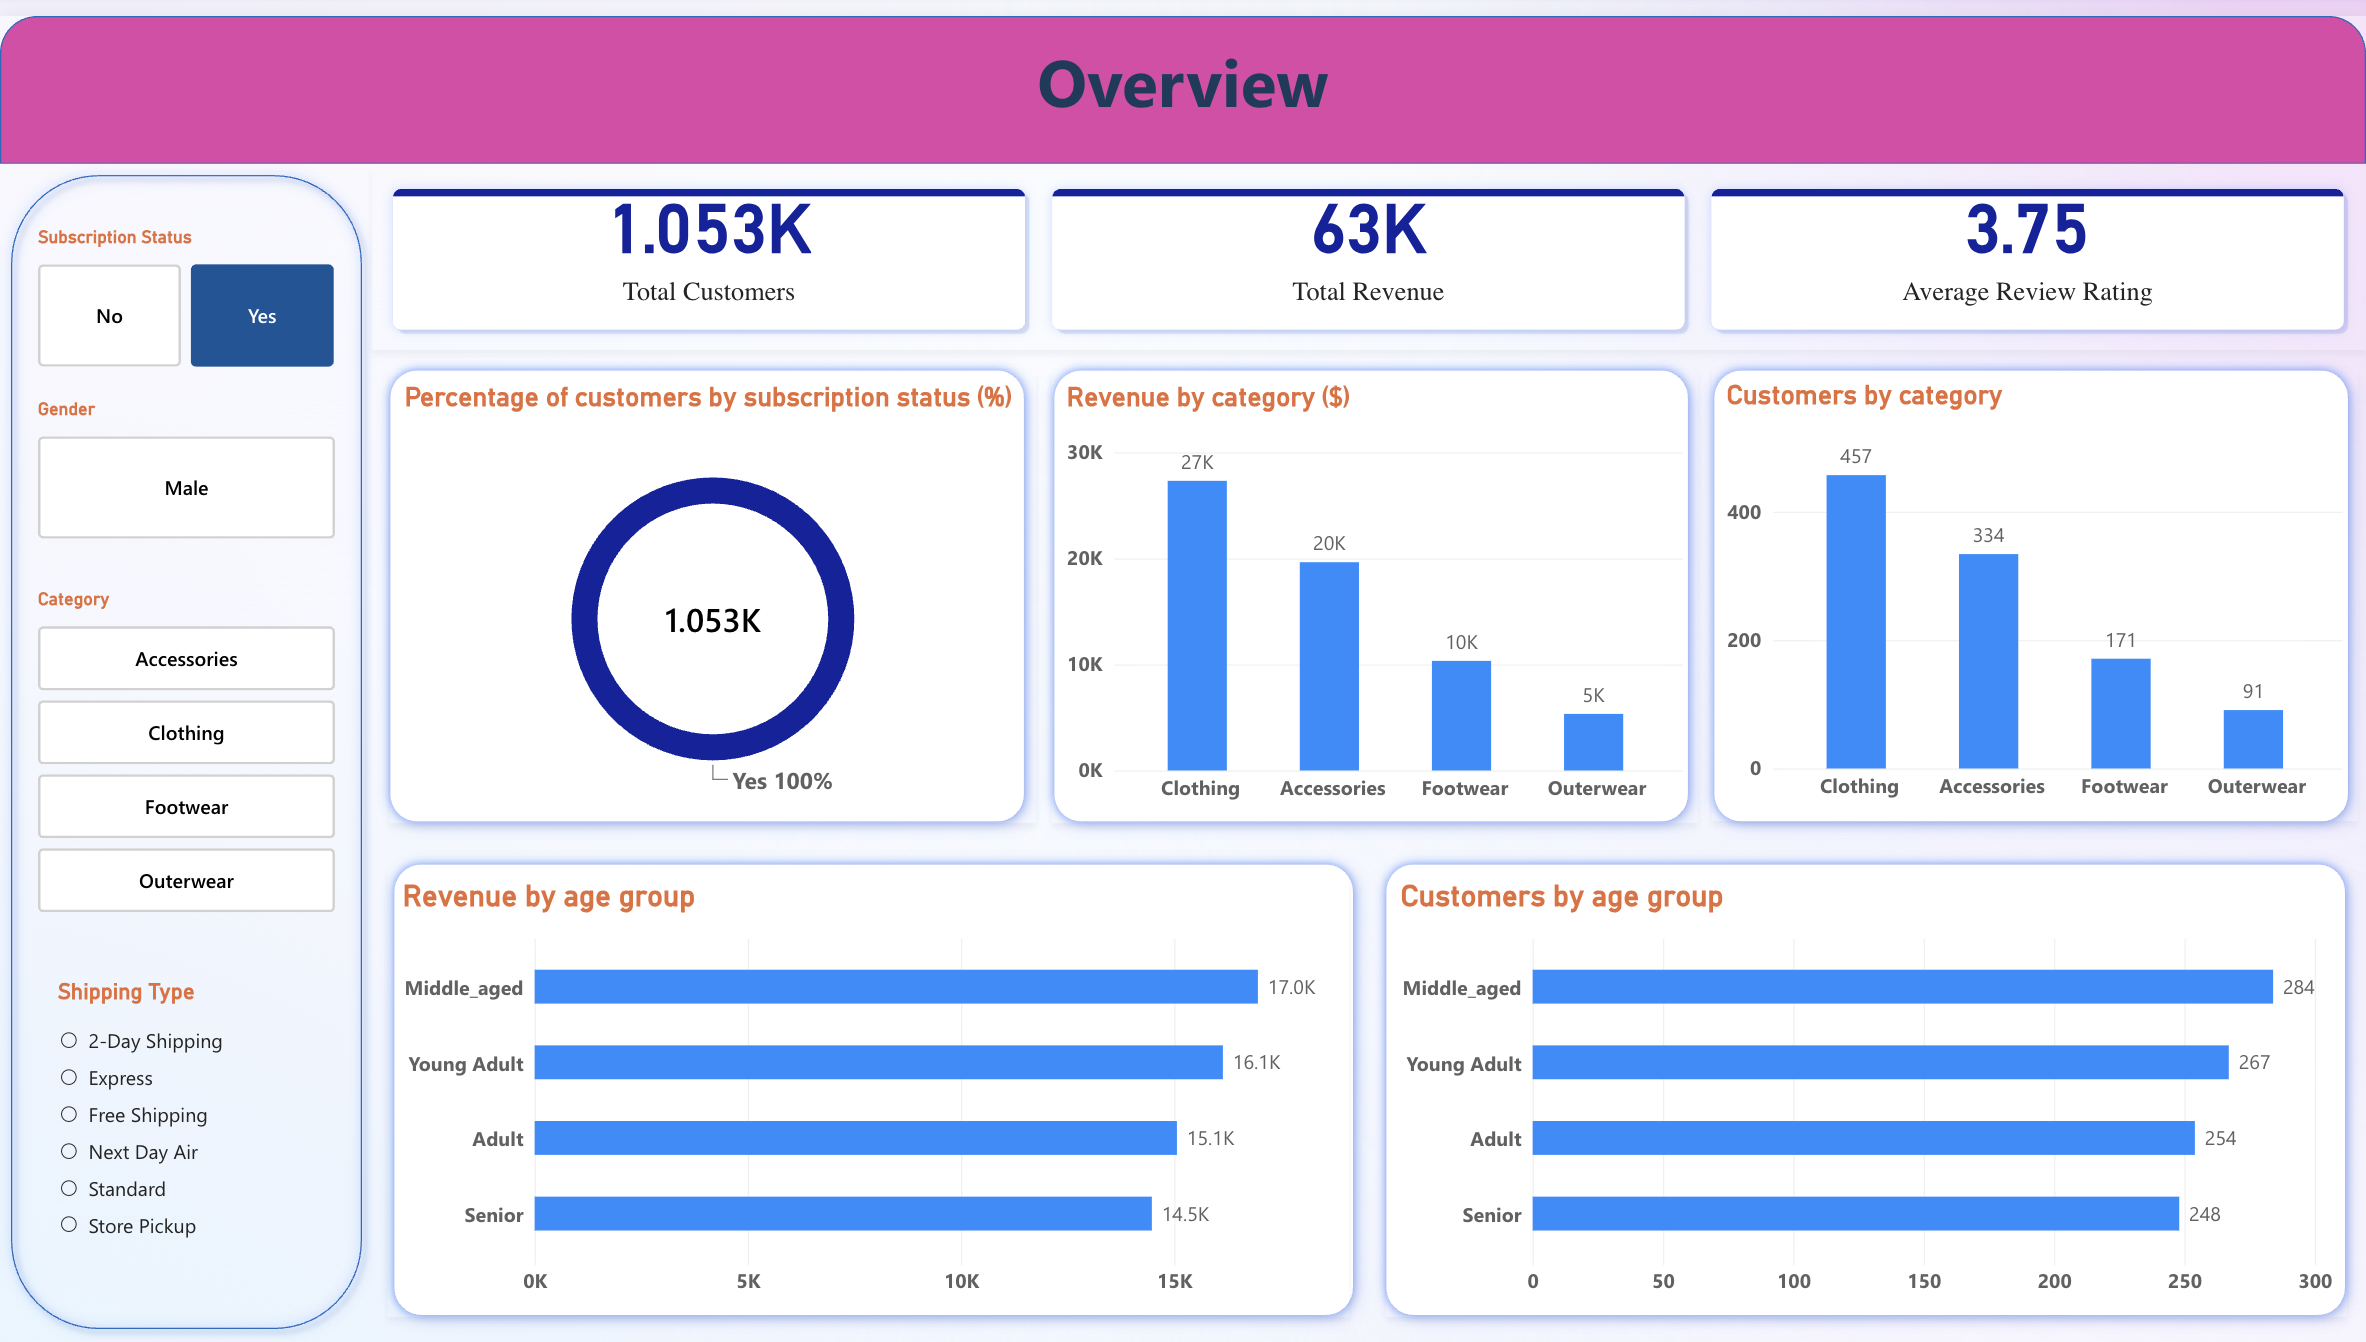

Layout of this report page (visuals, bound fields, positions):
{"tool":"powerbi","page":{"name":"Overview","canvas":[1920,1080],"ordinal":0},"visuals":[{"type":"cardVisual","fields":{"Data":["public customer.Number of customers","Sum(public customer.purchase_amount)","public customer.Average Review Rating"]},"box":[302,124,1618,148],"z":0},{"type":"shape","box":[0,0,1920,120],"z":1000},{"type":"textbox","box":[0,16,1920,108],"z":2000},{"type":"shape","box":[302,272,544,396],"z":3000},{"type":"donutChart","title":"Percentage of customers by subscription status (%)","fields":{"Category":["public customer.subscription_status"],"Y":["CountNonNull(public customer.customer_id)"]},"box":[316,288,524,368],"z":4000},{"type":"shape","box":[840,272,544,396],"z":5000},{"type":"clusteredColumnChart","title":"Revenue by category ($)","fields":{"Category":["public customer.category"],"Y":["Sum(public customer.purchase_amount)"]},"box":[854.2,287.8,524,368],"z":6000},{"type":"shape","box":[1376,272,544,396],"z":7000},{"type":"clusteredColumnChart","title":"Customers by category","fields":{"Category":["public customer.category"],"Y":["CountNonNull(public customer.customer_id)"]},"box":[1390,286,524,368],"z":8000},{"type":"shape","box":[0,120.7,302.7,954.4],"z":9000},{"type":"advancedSlicerVisual","title":"Subscription Status","fields":{"Values":["public customer.subscription_status"]},"box":[31.6,172.7,241.4,113.3],"z":10000},{"type":"advancedSlicerVisual","title":"Gender","fields":{"Values":["public customer.gender"]},"box":[31.6,312,241.4,113.3],"z":11000},{"type":"advancedSlicerVisual","title":"Category","fields":{"Values":["public customer.category"]},"box":[31.6,466.1,241.4,263.7],"z":12000},{"type":"shape","box":[304.5,674,807.7,395.5],"z":13000},{"type":"listSlicer","title":"Shipping Type","fields":{"Values":["public customer.shipping_type"]},"box":[31.6,768.7,241.4,286],"z":14000},{"type":"clusteredBarChart","title":"Revenue by age group","fields":{"Category":["public customer.age_group"],"Y":["Sum(public customer.purchase_amount)"]},"box":[315.7,690.8,779.9,363.9],"z":15000},{"type":"shape","box":[1110.4,674,807.7,395.5],"z":16000},{"type":"clusteredBarChart","title":"Customers by age group","fields":{"Category":["public customer.age_group"],"Y":["CountNonNull(public customer.customer_id)"]},"box":[1125.3,690.8,779.9,363.9],"z":17000}]}

Visuals, with their boxes in screenshot pixels (x1, y1, x2, y2), scaled from the page's 1920x1080 canvas onto the 2366x1342 screenshot:
cardVisual - public customer.Number of customers x Sum(public customer.purchase_amount): select_region(372, 154, 2365, 338)
shape: select_region(0, 0, 2365, 149)
textbox: select_region(0, 20, 2365, 154)
shape: select_region(372, 338, 1043, 830)
"Percentage of customers by subscription status (%)" donutChart: select_region(389, 358, 1035, 815)
shape: select_region(1035, 338, 1705, 830)
"Revenue by category ($)" clusteredColumnChart: select_region(1053, 358, 1698, 815)
shape: select_region(1696, 338, 2365, 830)
"Customers by category" clusteredColumnChart: select_region(1713, 355, 2359, 813)
shape: select_region(0, 150, 373, 1336)
"Subscription Status" advancedSlicerVisual: select_region(39, 215, 336, 355)
"Gender" advancedSlicerVisual: select_region(39, 388, 336, 528)
"Category" advancedSlicerVisual: select_region(39, 579, 336, 907)
shape: select_region(375, 838, 1371, 1329)
"Shipping Type" listSlicer: select_region(39, 955, 336, 1311)
"Revenue by age group" clusteredBarChart: select_region(389, 858, 1350, 1311)
shape: select_region(1368, 838, 2364, 1329)
"Customers by age group" clusteredBarChart: select_region(1387, 858, 2348, 1311)
